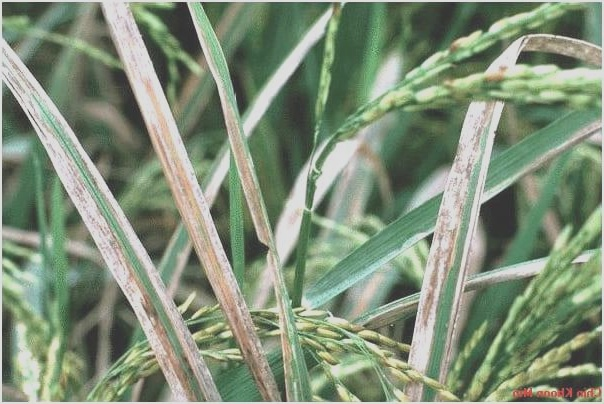Leaf_Blast: (44, 37, 274, 368), (405, 42, 530, 382)
